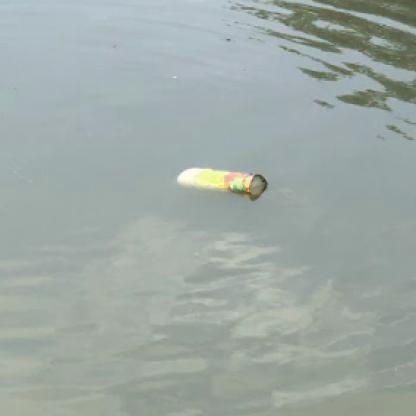Metal: (174, 163, 271, 200)
